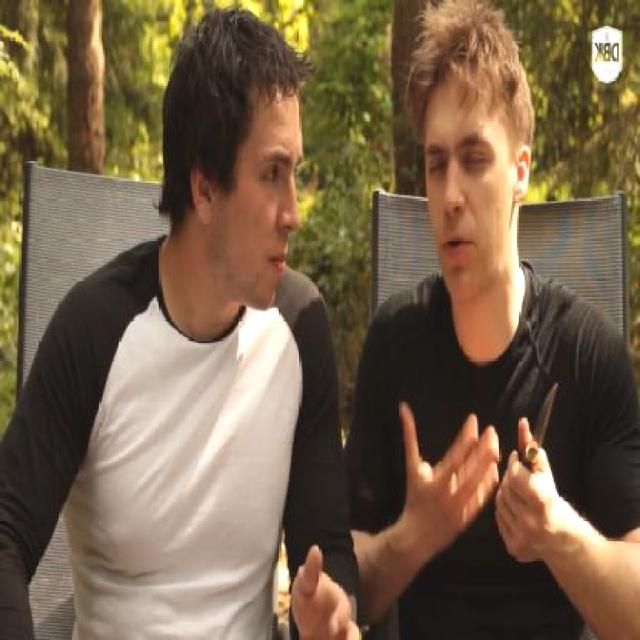knife: (496, 366, 570, 522)
